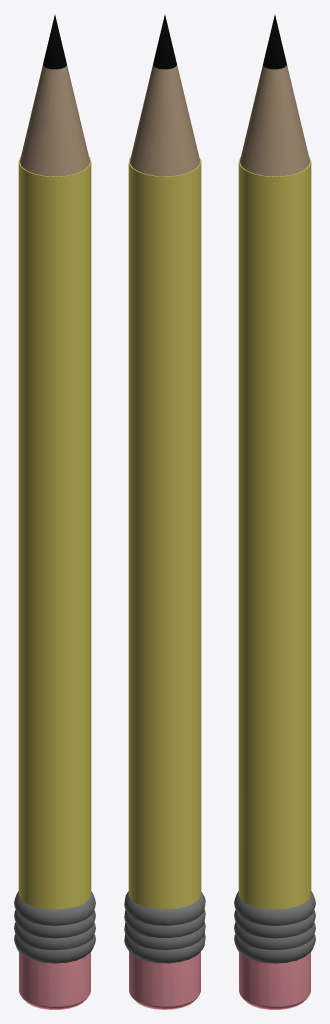
File: pen.fbx
The picture shows the model from 3 angles, left to right: view 1: azimuth 90°, elevation 25°; view 2: azimuth 150°, elevation 25°; view 3: azimuth 270°, elevation 25°; orthographic projection.
Parts seen in each view (by area): view 1: pCylinder1, pCone1, pCylinder2, pTorus1, pTorus4, pTorus2, pTorus3; view 2: pCylinder1, pCone1, pCylinder2, pTorus1, pTorus4, pTorus2, pTorus3; view 3: pCylinder1, pCone1, pCylinder2, pTorus1, pTorus4, pTorus2, pTorus3.
Boxes of the visible parts, bbox=[...] form: pCylinder1: bbox=[18, 156, 91, 909]; pCone1: bbox=[20, 15, 89, 176]; pCylinder2: bbox=[19, 952, 90, 1009]; pTorus1: bbox=[14, 891, 95, 925]; pTorus4: bbox=[14, 934, 95, 963]; pTorus2: bbox=[14, 910, 95, 938]; pTorus3: bbox=[14, 922, 95, 950]; pCylinder1: bbox=[128, 157, 201, 909]; pCone1: bbox=[130, 15, 199, 176]; pCylinder2: bbox=[129, 951, 200, 1009]; pTorus1: bbox=[124, 891, 205, 925]; pTorus4: bbox=[124, 933, 205, 963]; pTorus2: bbox=[124, 909, 205, 937]; pTorus3: bbox=[124, 922, 205, 949]; pCylinder1: bbox=[238, 156, 311, 909]; pCone1: bbox=[240, 15, 309, 176]; pCylinder2: bbox=[239, 952, 310, 1009]; pTorus1: bbox=[234, 891, 315, 925]; pTorus4: bbox=[234, 934, 315, 963]; pTorus2: bbox=[234, 910, 315, 938]; pTorus3: bbox=[234, 922, 315, 950].
Bounding box in the file's own units: 0.3471 × 4.6 × 0.3471.
